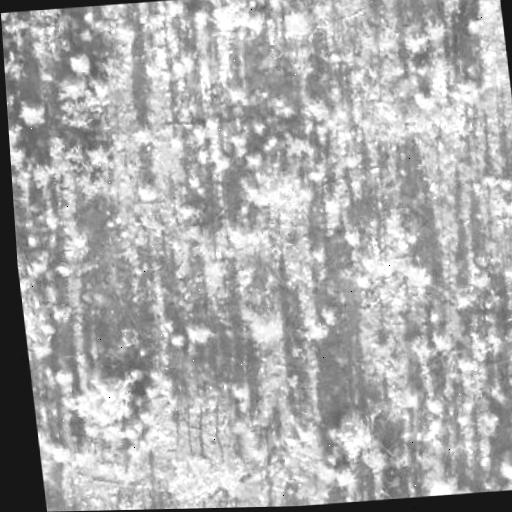tree-top: (71, 365, 144, 432), (34, 127, 96, 194), (239, 161, 304, 215), (322, 406, 375, 459), (237, 301, 289, 349), (377, 203, 427, 251), (209, 0, 267, 33), (399, 252, 440, 296), (276, 1, 317, 44), (394, 16, 435, 57), (444, 76, 487, 111), (466, 408, 507, 444), (218, 373, 258, 409), (12, 92, 49, 127), (56, 70, 92, 104), (300, 93, 333, 130), (425, 473, 476, 496), (445, 281, 480, 314), (181, 315, 216, 347), (21, 249, 52, 283), (64, 46, 95, 78), (264, 93, 294, 126), (302, 317, 339, 343), (404, 334, 435, 365), (479, 323, 508, 356), (429, 324, 457, 357), (184, 5, 217, 33), (225, 79, 254, 110), (456, 10, 486, 37), (493, 450, 512, 491), (410, 86, 436, 111), (244, 115, 270, 139), (175, 197, 200, 221), (422, 391, 446, 416), (9, 142, 30, 169), (133, 181, 157, 204), (170, 330, 189, 359), (494, 170, 512, 197), (6, 88, 18, 123), (473, 0, 499, 15), (3, 47, 12, 78)
